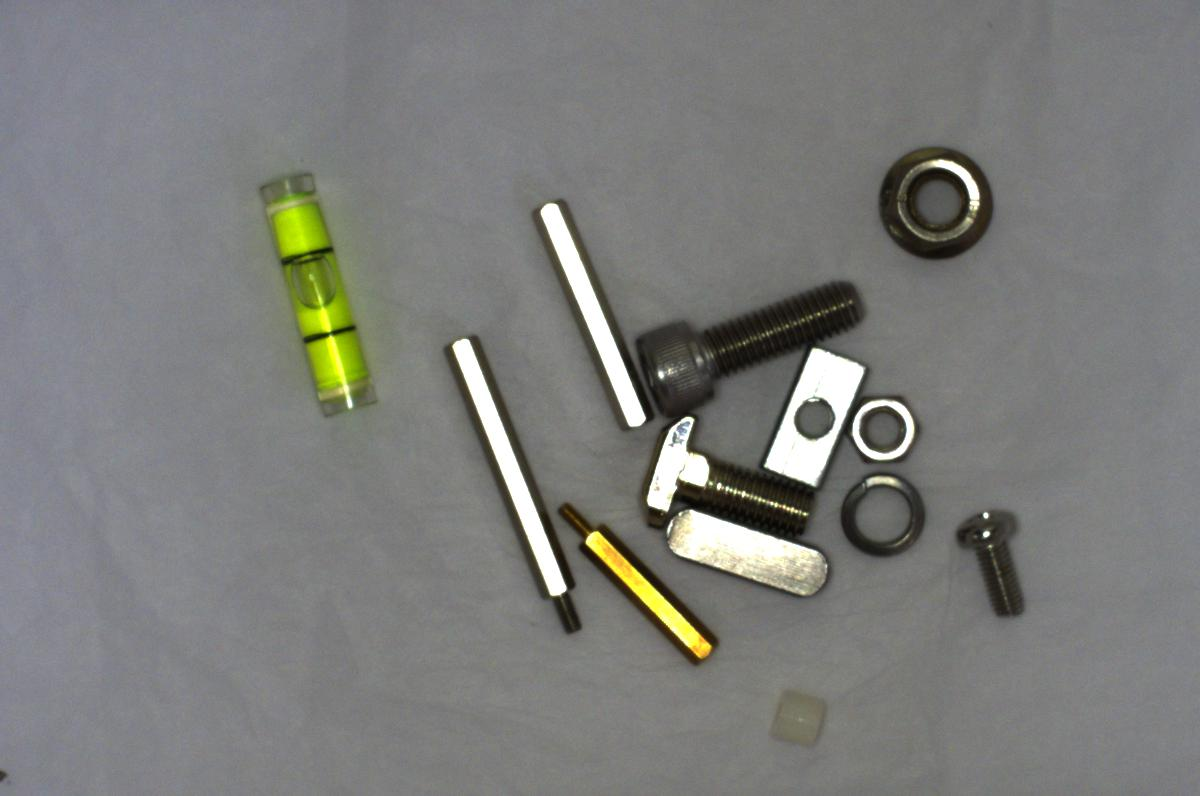Double hexagonal column: (534, 190, 652, 437)
Flange nut: (866, 131, 1008, 265)
Hexagon nut: (839, 386, 923, 460)
Hexagon pillar: (544, 489, 723, 668)
Hexagon screw: (632, 268, 880, 421)
Hexagonal steel column: (442, 332, 603, 646)
Horizontal bubble: (256, 162, 383, 430)
Keybar: (664, 501, 834, 610)
Plastic cushion pillar: (756, 678, 838, 753)
Rectangular nut: (751, 340, 869, 478)
Round head screw: (956, 496, 1062, 630)
Spring washer: (843, 465, 932, 563)
T-shaped screw: (628, 422, 816, 536)
